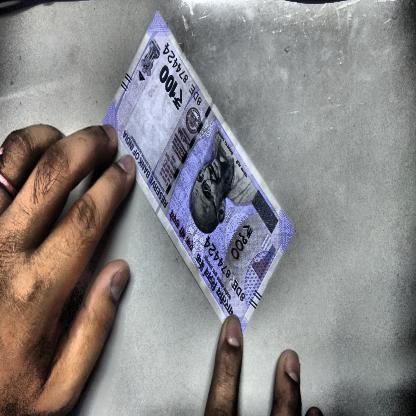Rs100: (155, 58, 187, 117)
